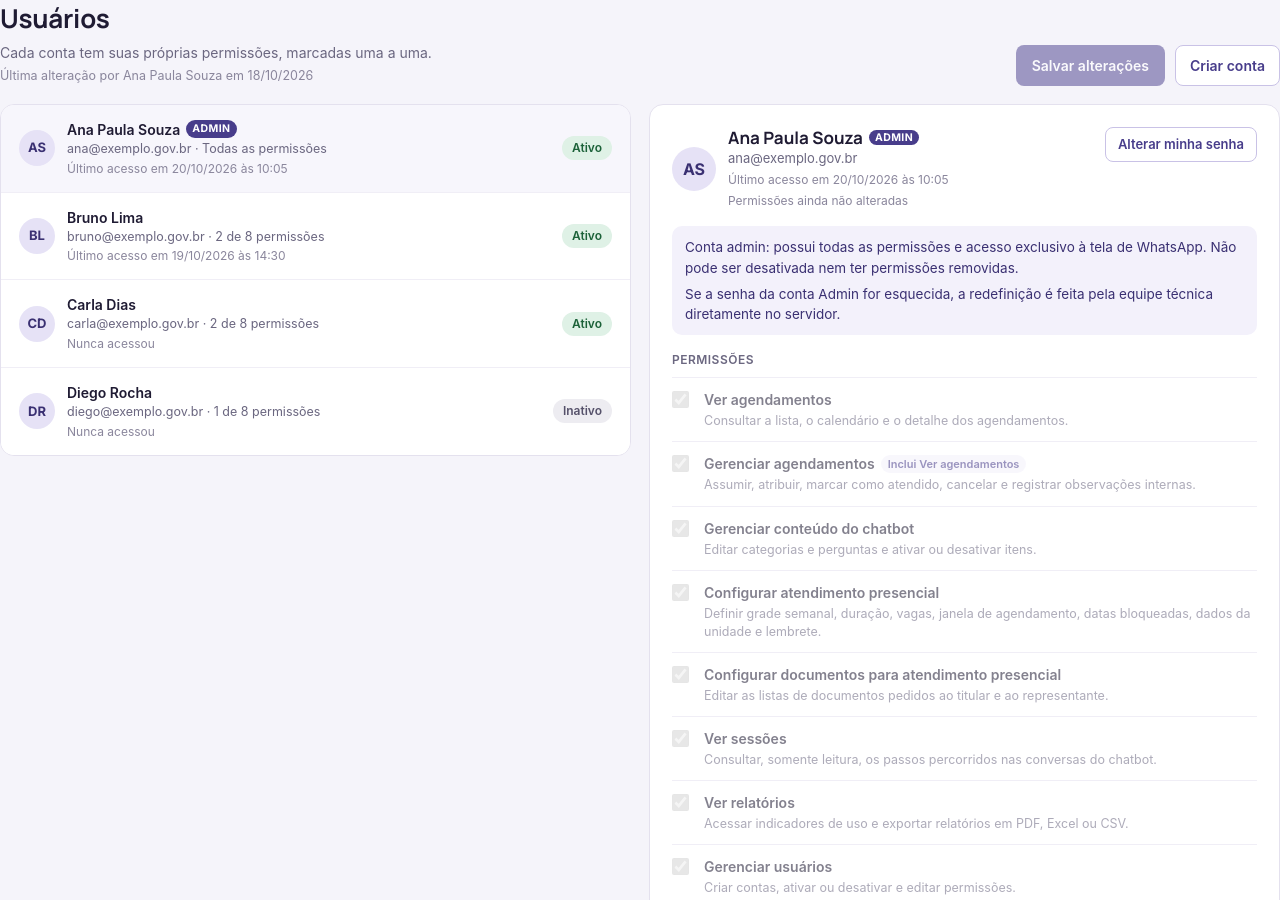
UsersPage criar conta › envia só nome e e-mail aparados e a senha, recarrega a lista e seleciona a conta nova
Expected: the list named "Contas" is shown, [0, 104, 631, 456]
Click the button "Criar conta" at x=1228, y=65, box [1175, 45, 1279, 86]
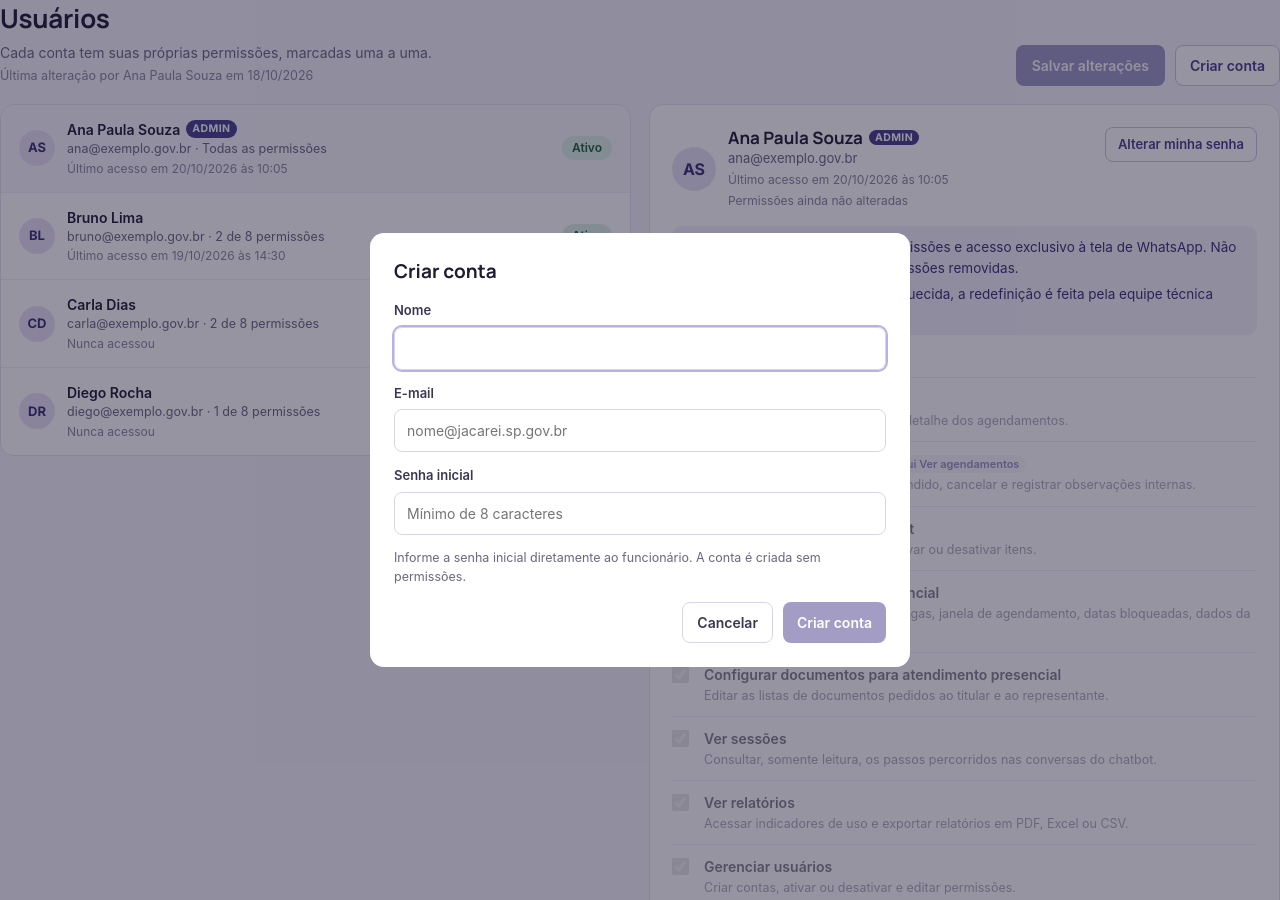
Type "  Elisa Prado " into the field labelled "Nome" at x=640, y=348, box [394, 327, 886, 370]
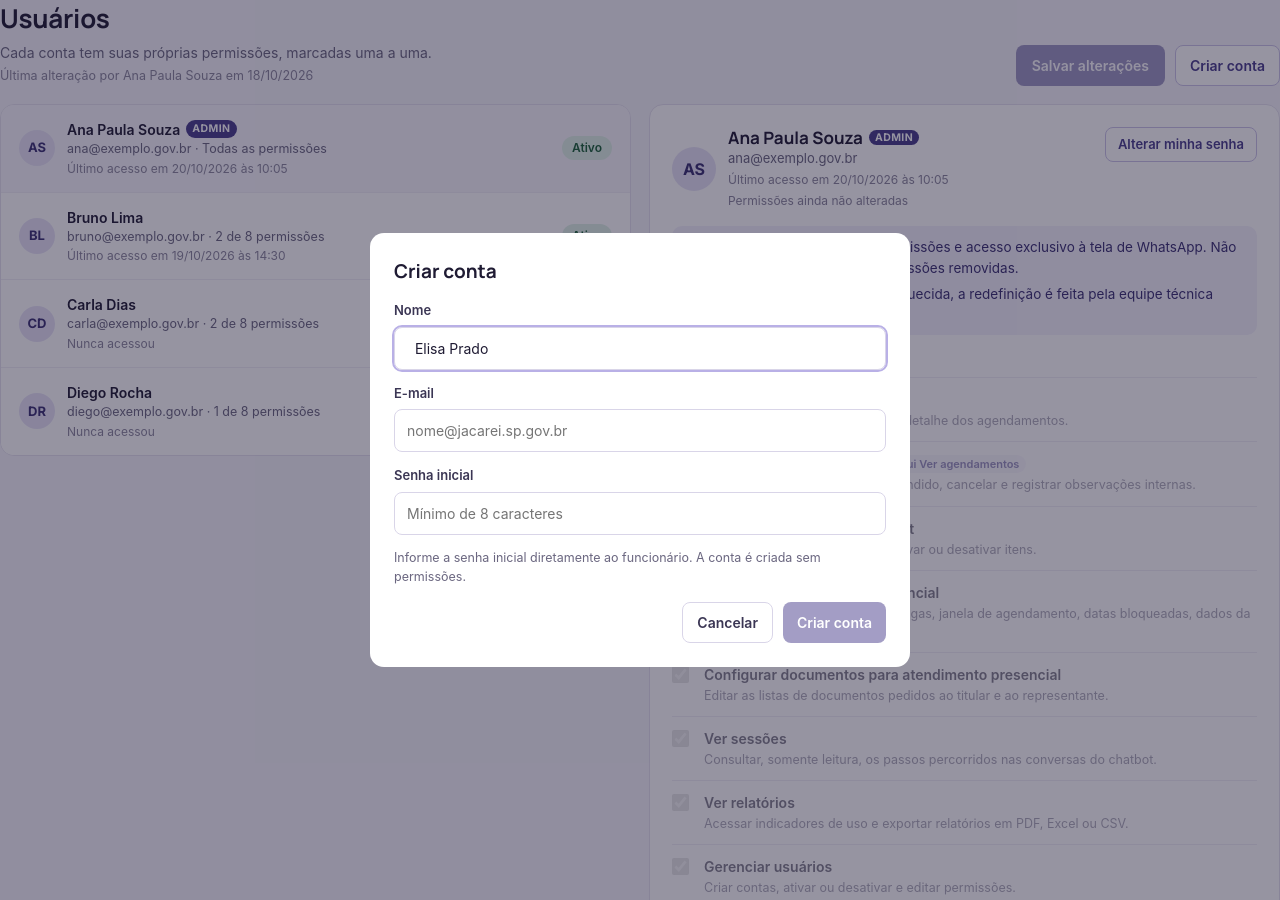
Type "elisa@exemplo.gov.br " into the field labelled "E-mail" at x=640, y=431, box [394, 409, 886, 452]
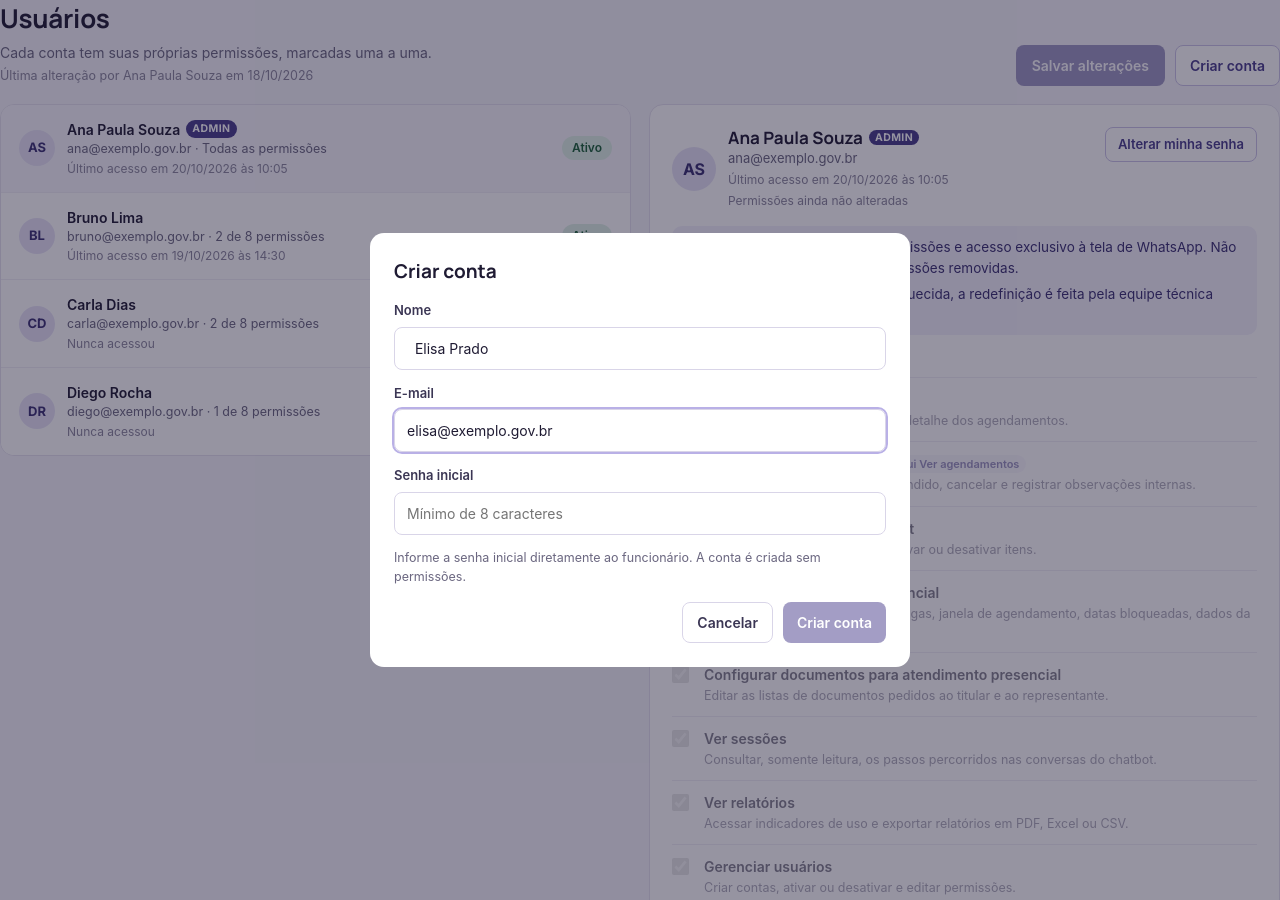
Type "senha-inicial-77" into the password field labelled "Senha inicial" at x=640, y=513, box [394, 492, 886, 535]
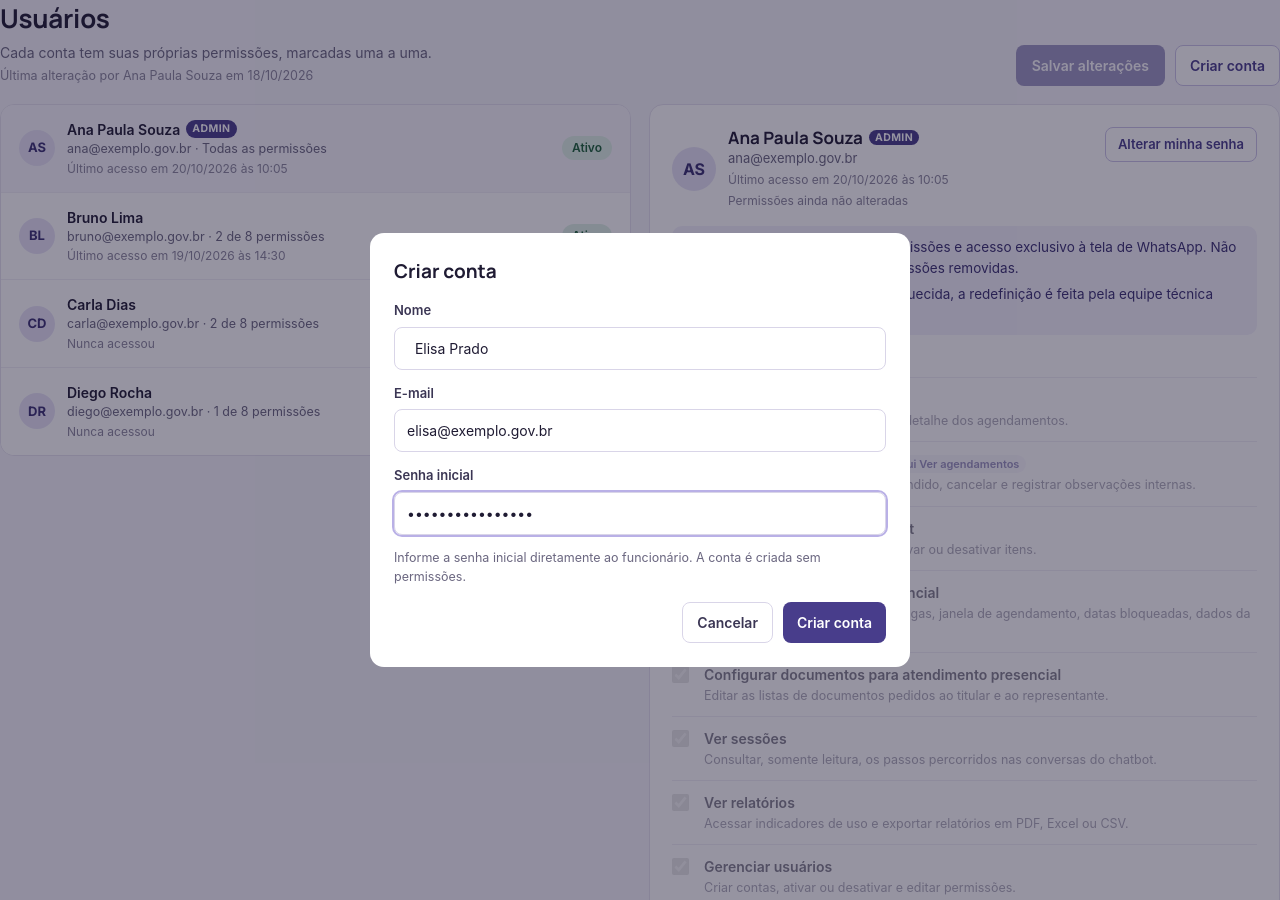
Click the button "Criar conta" at x=834, y=623, box [783, 602, 886, 643]
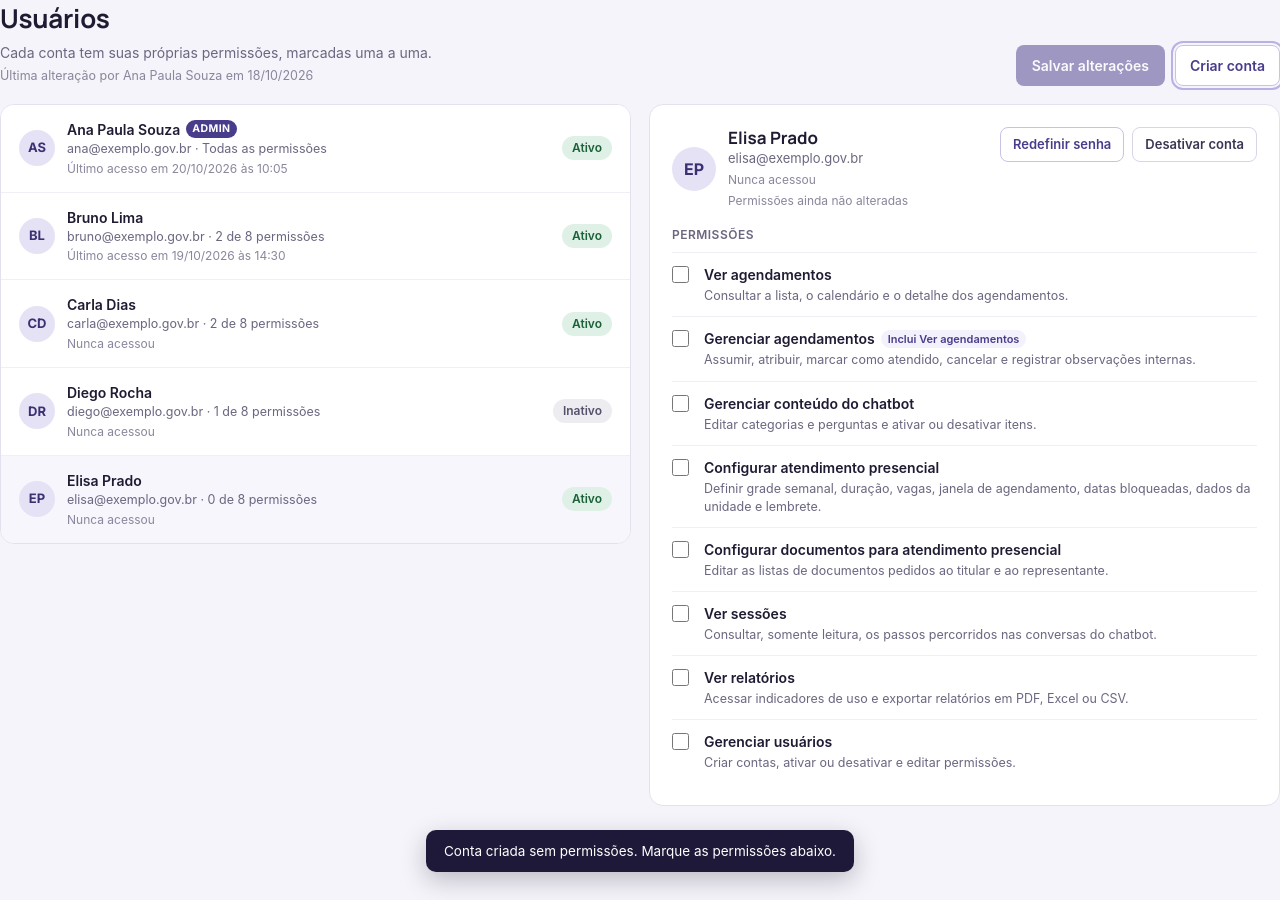
Expected: the text "Conta criada sem permissões. Marque as permissões abaixo." is shown, [426, 830, 854, 872]
Expected: the dialog is gone
Expected: the element "Elisa Prado" is shown, [649, 104, 1279, 806]
